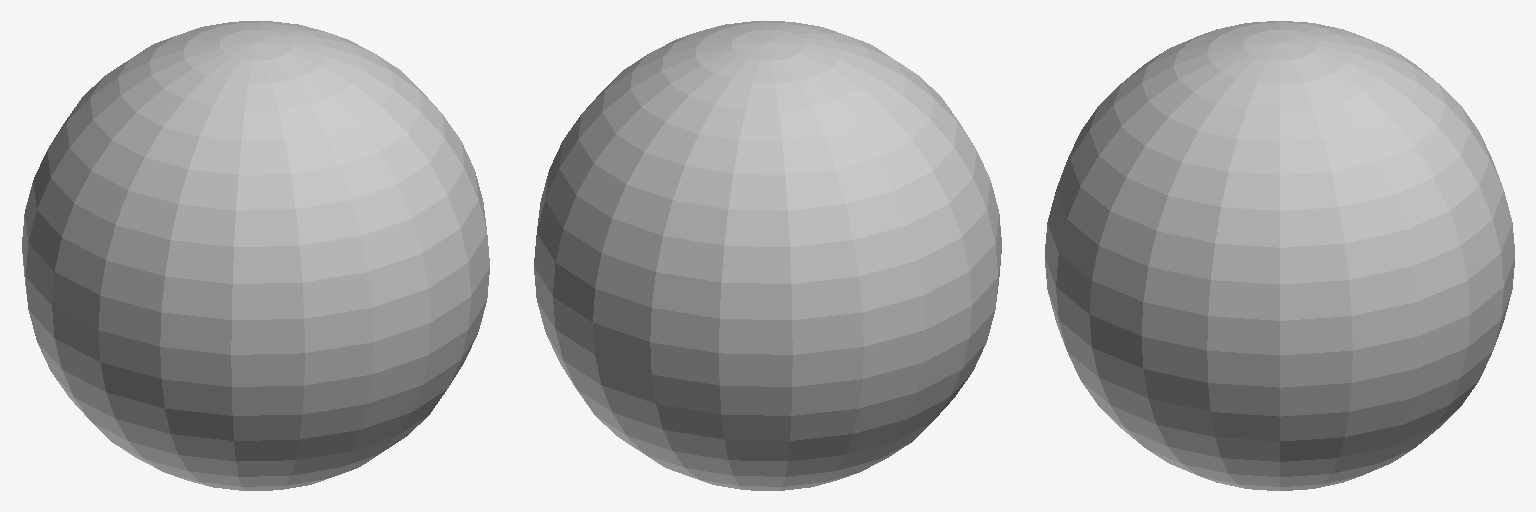
Rendered from character_Model.obj.
3 renders of one model, left to right at view 1: azimuth 30°, elevation 25°; view 2: azimuth 150°, elevation 25°; view 3: azimuth 270°, elevation 25°, orthographic.
Parts seen in each view (by area): view 1: pSphere7; view 2: pSphere7; view 3: pSphere7.
Boxes of the visible parts, <box> form: pSphere7: <box>22,21,489,490</box>; pSphere7: <box>534,21,1001,490</box>; pSphere7: <box>1045,21,1514,490</box>.
Bounding box in the file's own units: 2 × 2 × 2.